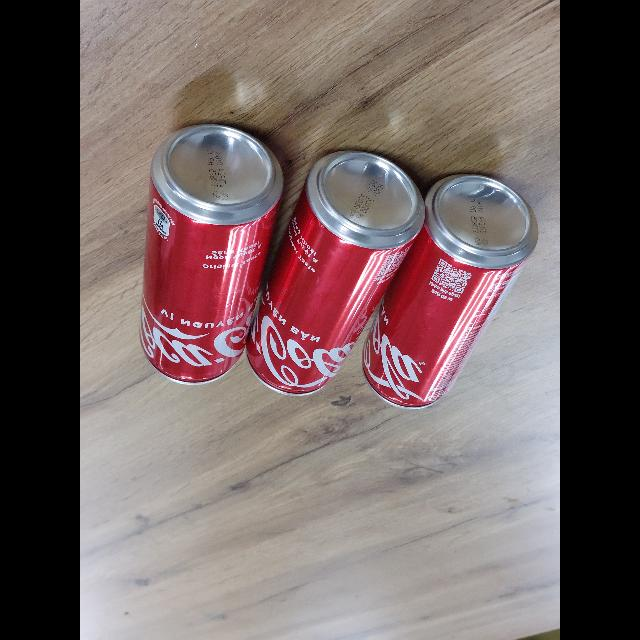coca_cola: (246, 151, 425, 395), (362, 174, 538, 409), (140, 124, 283, 384), (192, 283, 198, 293)
